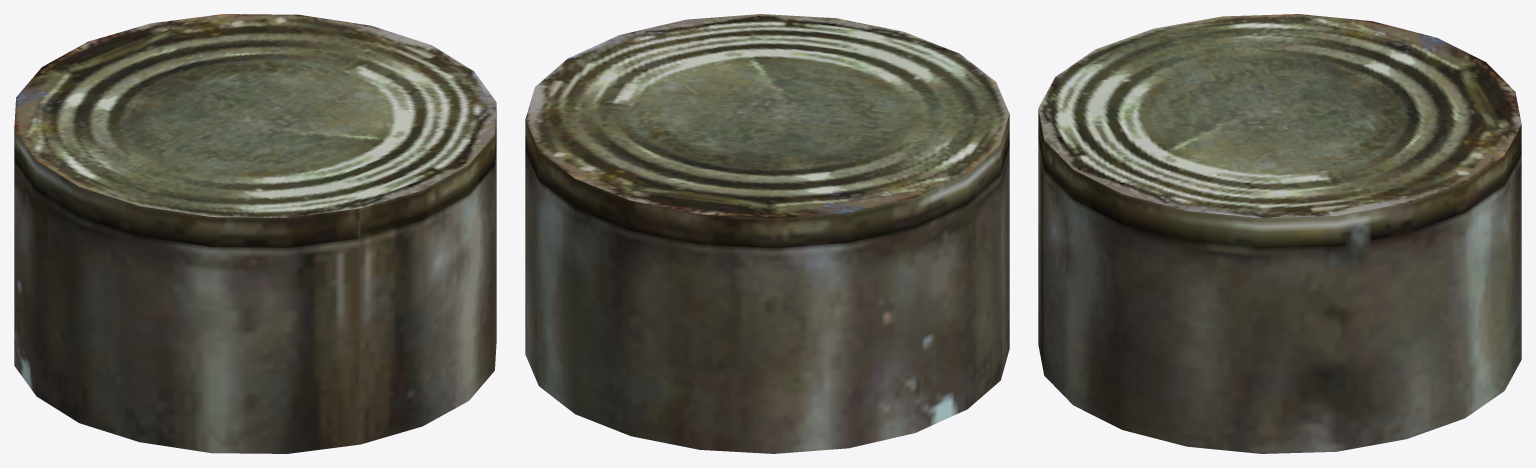
Rendered from Can.fbx.
3 renders of one model, left to right at view 1: azimuth 30°, elevation 25°; view 2: azimuth 150°, elevation 25°; view 3: azimuth 270°, elevation 25°, orthographic.
Parts seen in each view (by area): view 1: mesh_0.1913; view 2: mesh_0.1913; view 3: mesh_0.1913.
Part boxes in pixels (box(x1,y1,x2,y2)): mesh_0.1913: box(14, 14, 496, 453); mesh_0.1913: box(525, 14, 1009, 453); mesh_0.1913: box(1038, 14, 1521, 453).
Bounding box in the file's own units: 0.158 × 0.0849 × 0.158.
